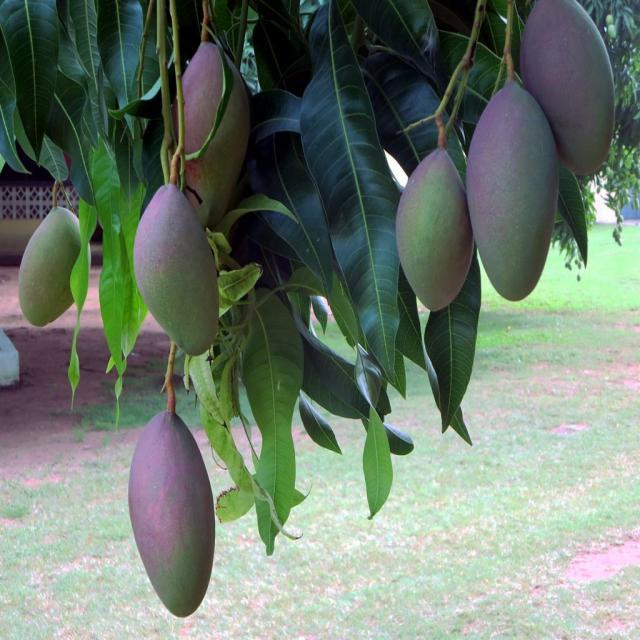Mango: (467, 79, 561, 301), (130, 413, 217, 615), (520, 0, 614, 178), (137, 185, 222, 357), (171, 42, 249, 228), (396, 147, 474, 309), (17, 207, 91, 328)
